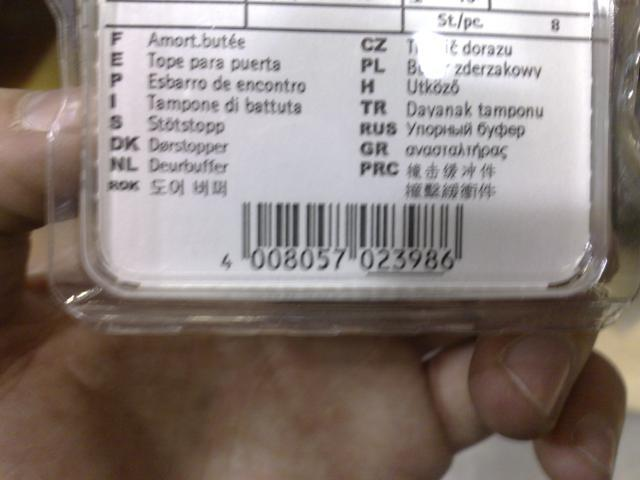Barkod: (240, 202, 464, 246)
